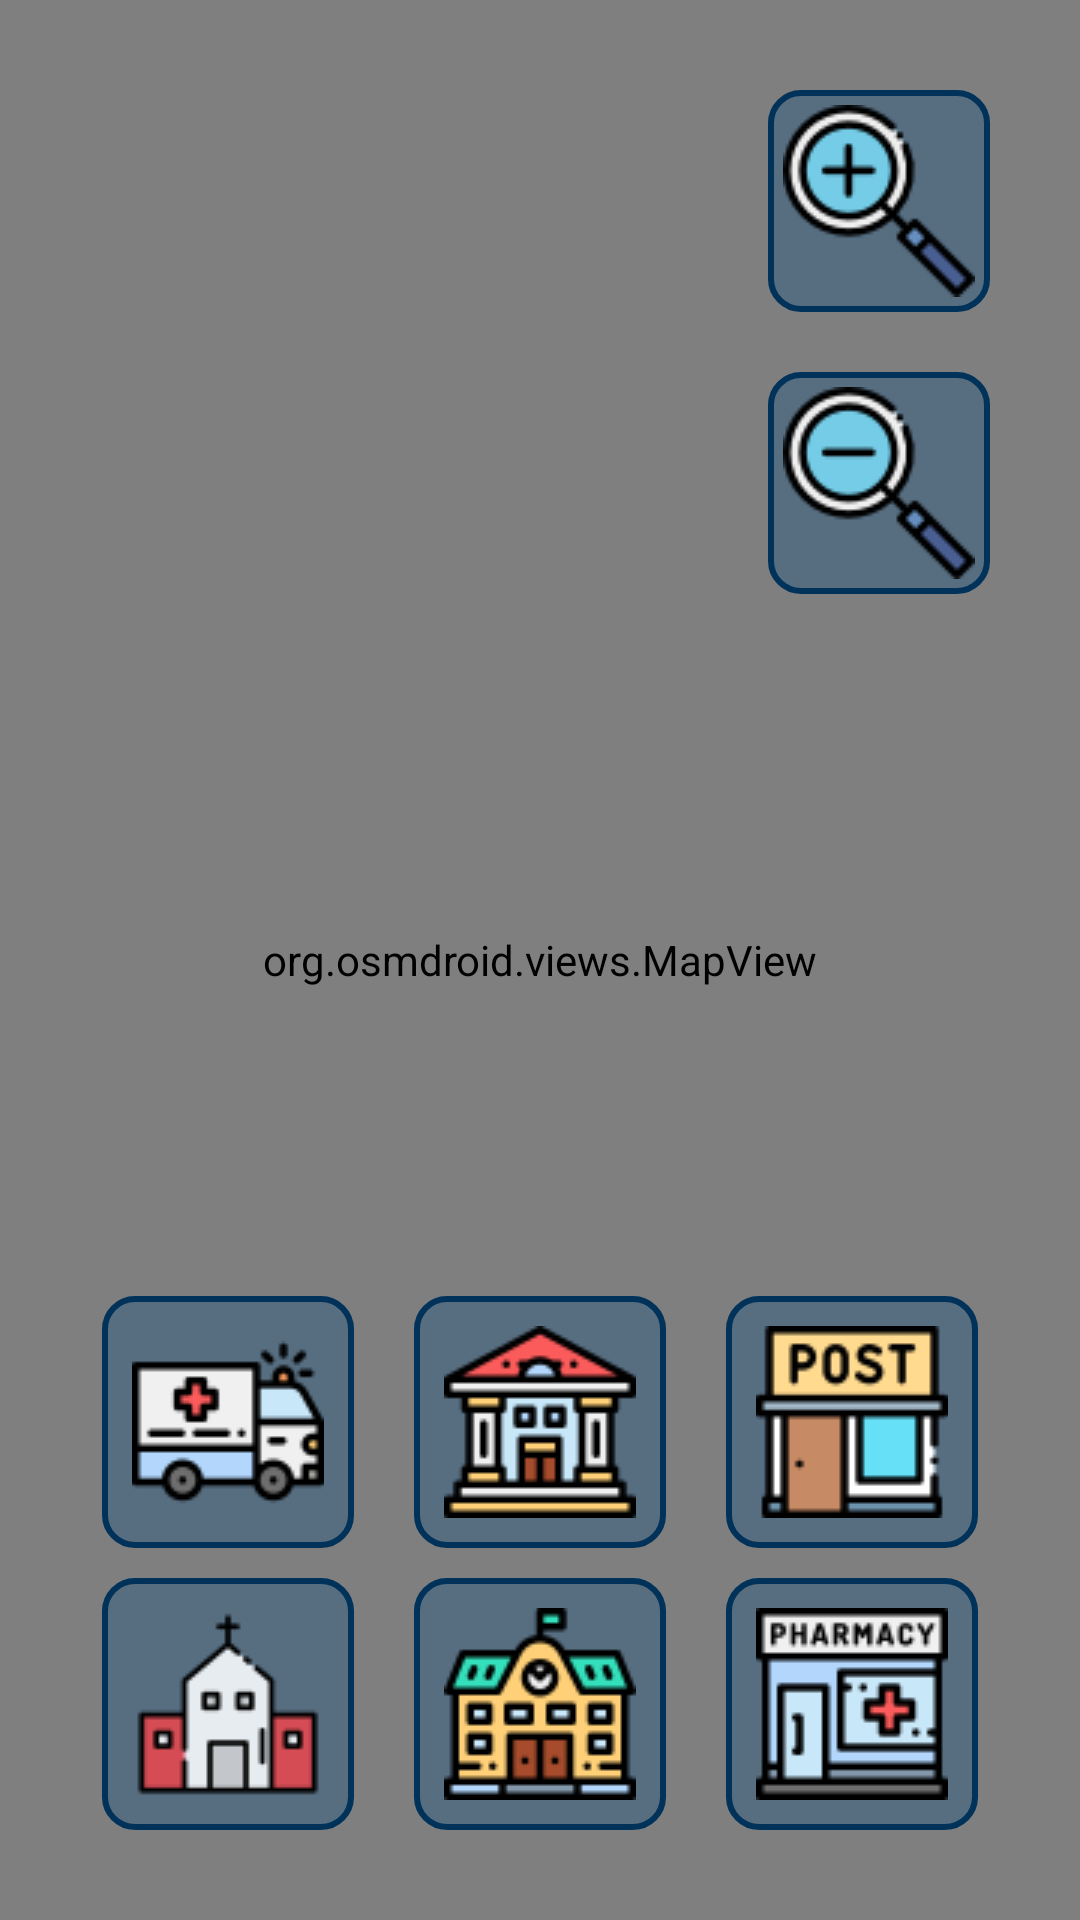

Locate icon controls on the screen. Image size 1080x1920, boxes as [left=x1, top=y1, right=x2, bottom=y2].
ambulance: [left=102, top=1296, right=354, bottom=1548]
bank: [left=414, top=1296, right=666, bottom=1548]
church: [left=102, top=1578, right=354, bottom=1830]
school: [left=414, top=1578, right=666, bottom=1830]
zoom in: [left=768, top=90, right=990, bottom=312]
zoom out: [left=768, top=372, right=990, bottom=594]
